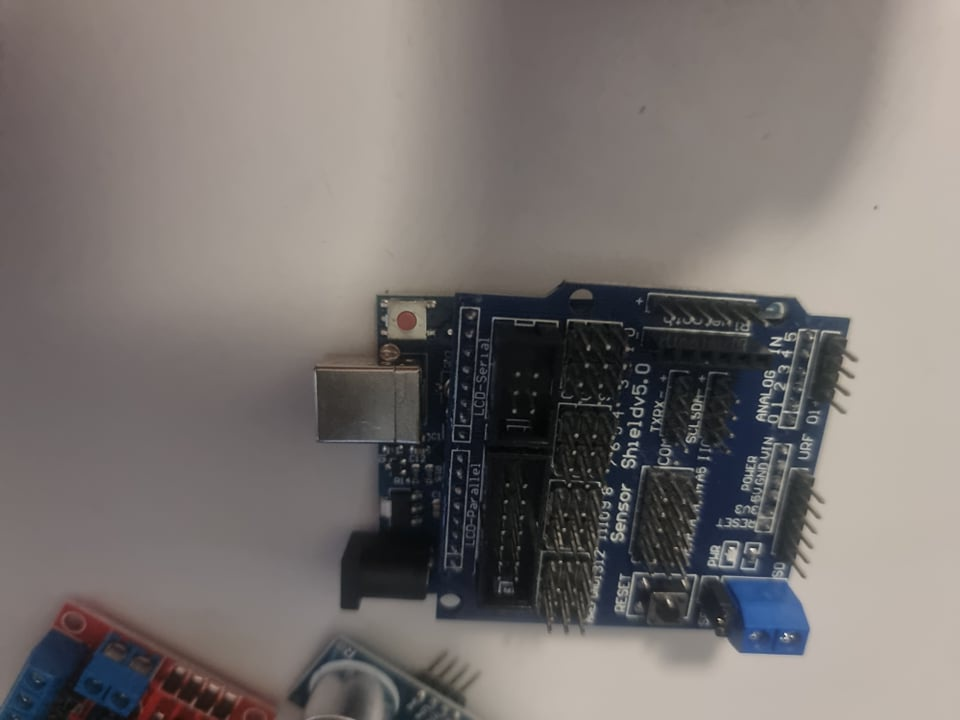UNO R3: (291, 283, 860, 668)
